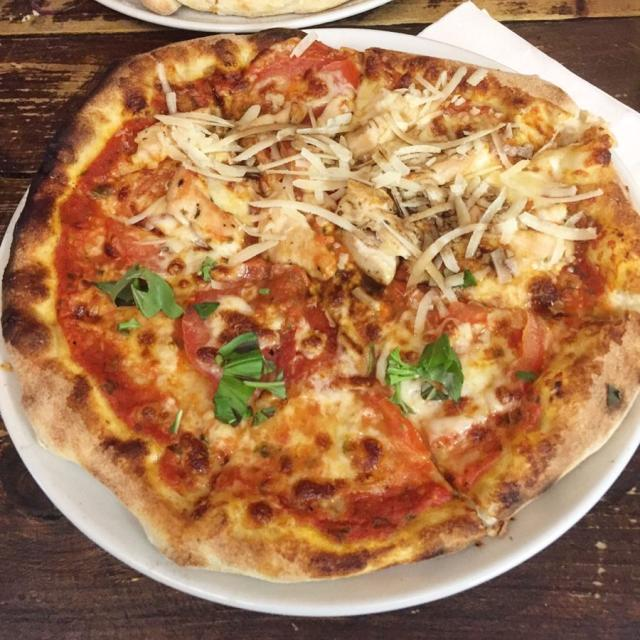basil: (382, 333, 465, 419), (91, 266, 187, 322), (212, 331, 264, 424), (240, 368, 290, 402), (186, 302, 220, 320), (199, 255, 218, 282), (169, 409, 184, 434), (516, 369, 540, 382), (118, 319, 141, 331)
pizza: (0, 25, 640, 585)
